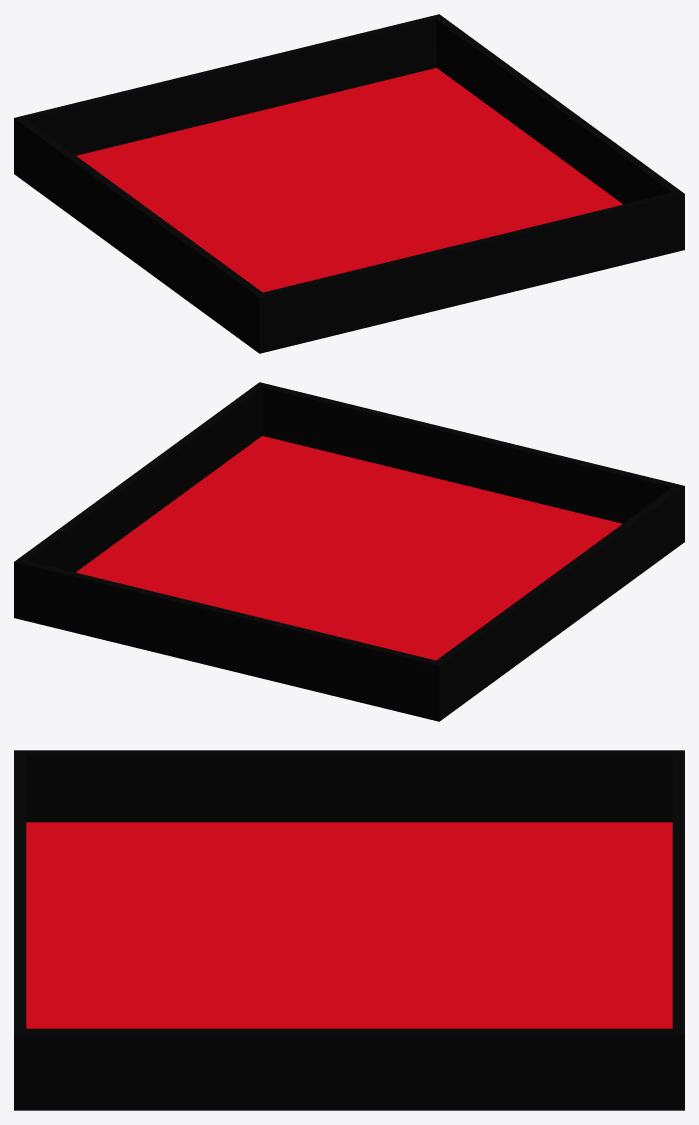
File: dice_box.fbx
3 renders of one model, top to bottom at view 1: azimuth 30°, elevation 25°; view 2: azimuth 150°, elevation 25°; view 3: azimuth 270°, elevation 25°, orthographic. The views are drawn at different scales.
Visible parts, largest first — view 1: Dice_Box; view 2: Dice_Box; view 3: Dice_Box.
Part boxes in pixels (x1,y1,x2,y2): Dice_Box: (14, 14, 684, 353); Dice_Box: (14, 382, 684, 721); Dice_Box: (14, 750, 684, 1110).
Bounding box in the file's own units: 233 × 29.41 × 233.
